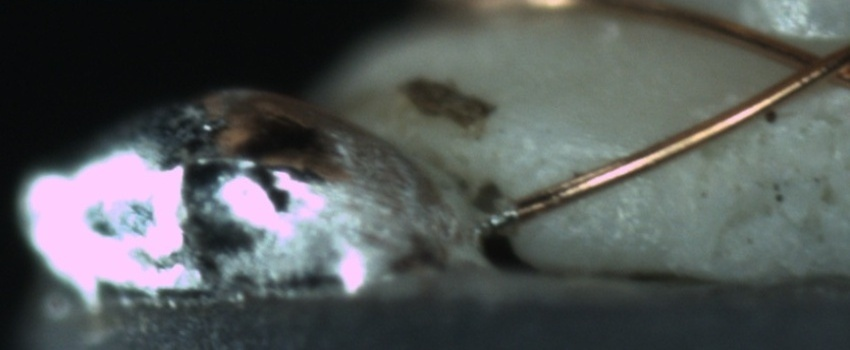CL: (773, 36, 849, 91)
TS: (482, 205, 519, 231)
